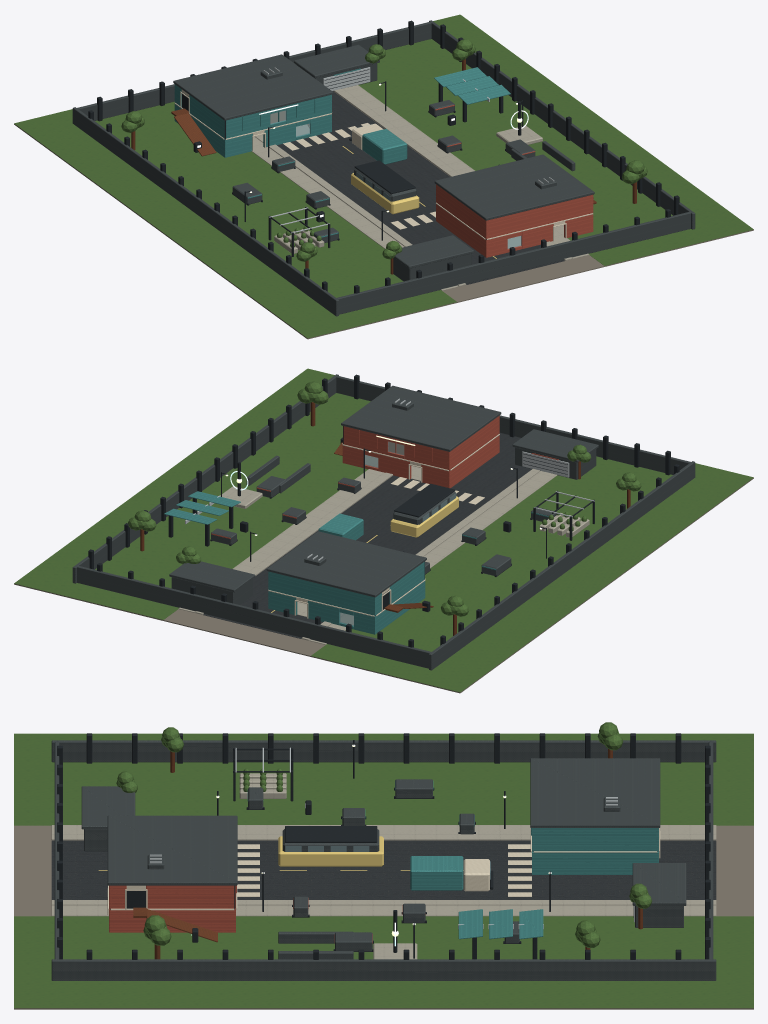
File: atomic-acres-blender-arena.glb
3 views of the same model, one above another, from view 1: azimuth 30°, elevation 25°; view 2: azimuth 150°, elevation 25°; view 3: azimuth 270°, elevation 25° (orthographic). The views are drawn at different scales.
Visible parts, largest first — view 1: BLD_BATCH_MAT_ground_olive, BLD_BATCH_MAT_concrete_dark, BLD_BATCH_MAT_roof_shingles, BLD_BATCH_MAT_asphalt_charcoal, BLD_BATCH_MAT_aqua_oxidized, BLD_BATCH_MAT_concrete_weathered, BLD_BATCH_MAT_gunmetal, BLD_BATCH_MAT_coral_oxide, BLD_BATCH_MAT_earth_edge, BLD_BATCH_MAT_foliage_military, BLD_BATCH_MAT_trim_bone, BLD_BATCH_MAT_timber_dark (+2 smaller); view 2: BLD_BATCH_MAT_ground_olive, BLD_BATCH_MAT_concrete_dark, BLD_BATCH_MAT_roof_shingles, BLD_BATCH_MAT_concrete_weathered, BLD_BATCH_MAT_asphalt_charcoal, BLD_BATCH_MAT_aqua_oxidized, BLD_BATCH_MAT_gunmetal, BLD_BATCH_MAT_coral_oxide, BLD_BATCH_MAT_earth_edge, BLD_BATCH_MAT_foliage_military, BLD_BATCH_MAT_trim_bone, BLD_BATCH_MAT_brushed_alloy (+2 smaller); view 3: BLD_BATCH_MAT_ground_olive, BLD_BATCH_MAT_concrete_dark, BLD_BATCH_MAT_roof_shingles, BLD_BATCH_MAT_asphalt_charcoal, BLD_BATCH_MAT_concrete_weathered, BLD_BATCH_MAT_gunmetal, BLD_BATCH_MAT_aqua_oxidized, BLD_BATCH_MAT_earth_edge, BLD_BATCH_MAT_coral_oxide, BLD_BATCH_MAT_foliage_military, BLD_BATCH_MAT_trim_bone, BLD_BATCH_MAT_hazard_amber (+2 smaller).
Part boxes in pixels (x1=…): BLD_BATCH_MAT_ground_olive: x1=14, y1=14, x2=753, y2=338; BLD_BATCH_MAT_concrete_dark: x1=72, y1=20, x2=695, y2=316; BLD_BATCH_MAT_roof_shingles: x1=173, y1=44, x2=594, y2=268; BLD_BATCH_MAT_asphalt_charcoal: x1=277, y1=91, x2=564, y2=284; BLD_BATCH_MAT_aqua_oxidized: x1=174, y1=67, x2=510, y2=237; BLD_BATCH_MAT_concrete_weathered: x1=251, y1=85, x2=589, y2=290; BLD_BATCH_MAT_gunmetal: x1=88, y1=20, x2=679, y2=293; BLD_BATCH_MAT_coral_oxide: x1=435, y1=105, x2=593, y2=257; BLD_BATCH_MAT_earth_edge: x1=14, y1=92, x2=753, y2=339; BLD_BATCH_MAT_foliage_military: x1=121, y1=39, x2=647, y2=261; BLD_BATCH_MAT_trim_bone: x1=174, y1=89, x2=593, y2=241; BLD_BATCH_MAT_timber_dark: x1=131, y1=59, x2=636, y2=274; BLD_BATCH_MAT_ground_olive: x1=14, y1=368, x2=753, y2=692; BLD_BATCH_MAT_concrete_dark: x1=72, y1=374, x2=695, y2=670; BLD_BATCH_MAT_roof_shingles: x1=169, y1=385, x2=598, y2=597; BLD_BATCH_MAT_concrete_weathered: x1=178, y1=455, x2=589, y2=644; BLD_BATCH_MAT_asphalt_charcoal: x1=203, y1=433, x2=531, y2=638; BLD_BATCH_MAT_aqua_oxidized: x1=164, y1=491, x2=548, y2=634; BLD_BATCH_MAT_gunmetal: x1=88, y1=374, x2=679, y2=647; BLD_BATCH_MAT_coral_oxide: x1=211, y1=415, x2=558, y2=538; BLD_BATCH_MAT_earth_edge: x1=14, y1=476, x2=753, y2=693; BLD_BATCH_MAT_foliage_military: x1=128, y1=381, x2=641, y2=616; BLD_BATCH_MAT_trim_bone: x1=268, y1=434, x2=499, y2=618; BLD_BATCH_MAT_brushed_alloy: x1=185, y1=398, x2=594, y2=561; BLD_BATCH_MAT_ground_olive: x1=14, y1=733, x2=753, y2=1008; BLD_BATCH_MAT_concrete_dark: x1=51, y1=740, x2=716, y2=980; BLD_BATCH_MAT_roof_shingles: x1=81, y1=758, x2=686, y2=905; BLD_BATCH_MAT_asphalt_charcoal: x1=51, y1=840, x2=716, y2=899; BLD_BATCH_MAT_concrete_weathered: x1=51, y1=773, x2=716, y2=959; BLD_BATCH_MAT_gunmetal: x1=57, y1=733, x2=710, y2=959; BLD_BATCH_MAT_aqua_oxidized: x1=247, y1=781, x2=658, y2=939; BLD_BATCH_MAT_earth_edge: x1=14, y1=825, x2=753, y2=1009; BLD_BATCH_MAT_coral_oxide: x1=109, y1=885, x2=425, y2=943; BLD_BATCH_MAT_foliage_military: x1=116, y1=722, x2=651, y2=947; BLD_BATCH_MAT_trim_bone: x1=107, y1=828, x2=660, y2=914; BLD_BATCH_MAT_hazard_amber: x1=98, y1=836, x2=463, y2=870.
Bounding box in the file's own units: 86 × 8.52 × 98.
19 materials, 12 textured.
